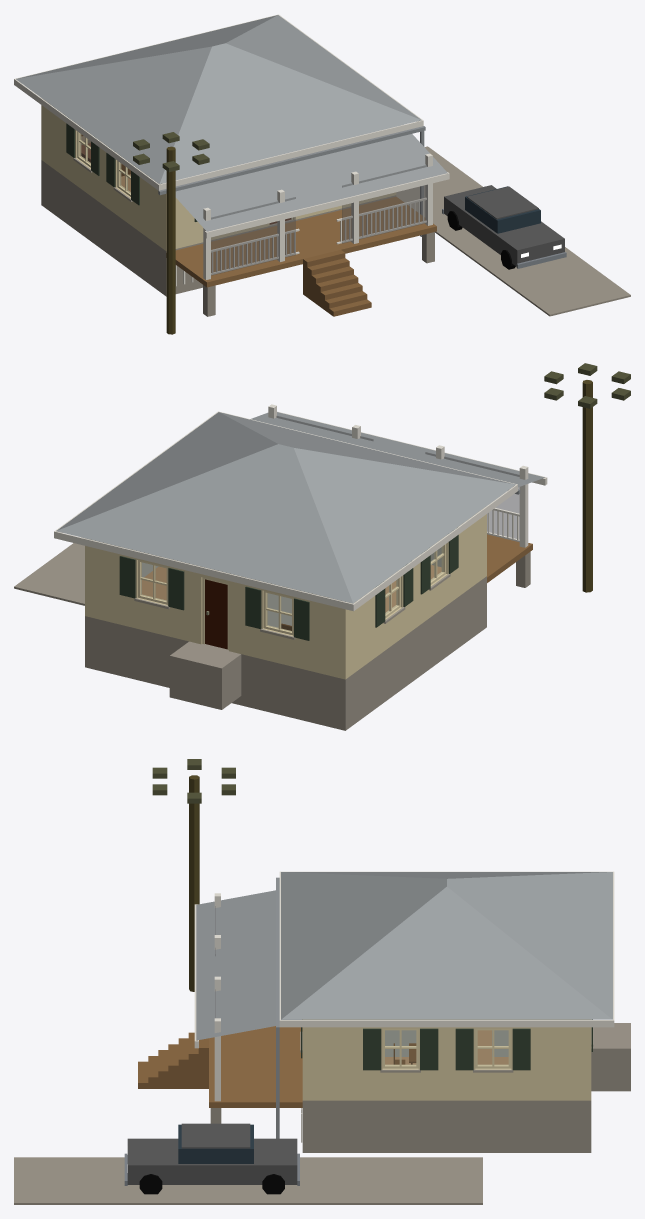
Rendered from beach.glb.
3 views of the same model, one above another, from view 1: azimuth 30°, elevation 25°; view 2: azimuth 150°, elevation 25°; view 3: azimuth 270°, elevation 25° (orthographic). The views are drawn at different scales.
Parts seen in each view (by area): view 1: LOD0; view 2: LOD0, LEAF1; view 3: LOD0.
Boxes of the visible parts, x1,y1,x2,y2 form: LOD0: [14, 14, 630, 334]; LOD0: [14, 363, 630, 730]; LEAF1: [205, 579, 227, 649]; LOD0: [14, 759, 630, 1204].
Size of what is drawn, in the model's own units: 15.4 by 6.8 by 17.1.
